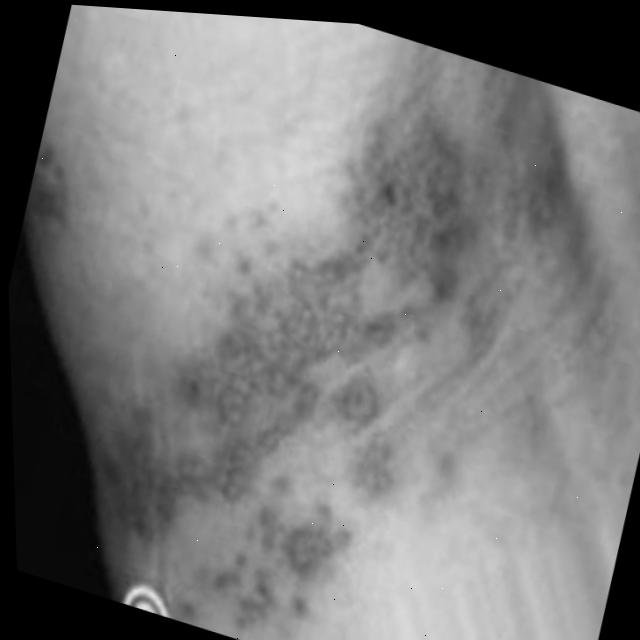Shingles: (63, 30, 527, 640)
